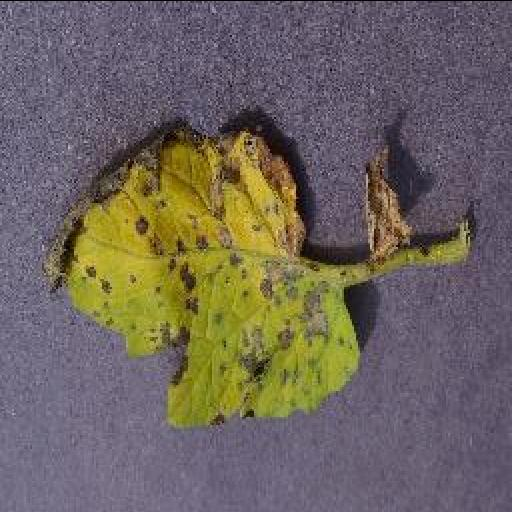disease_tomato: (43, 120, 361, 424)
